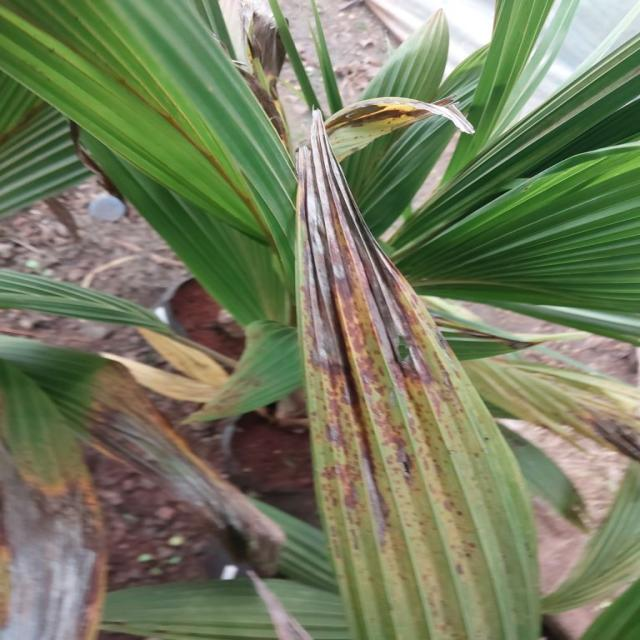gray leaf spot: (294, 124, 545, 640)
